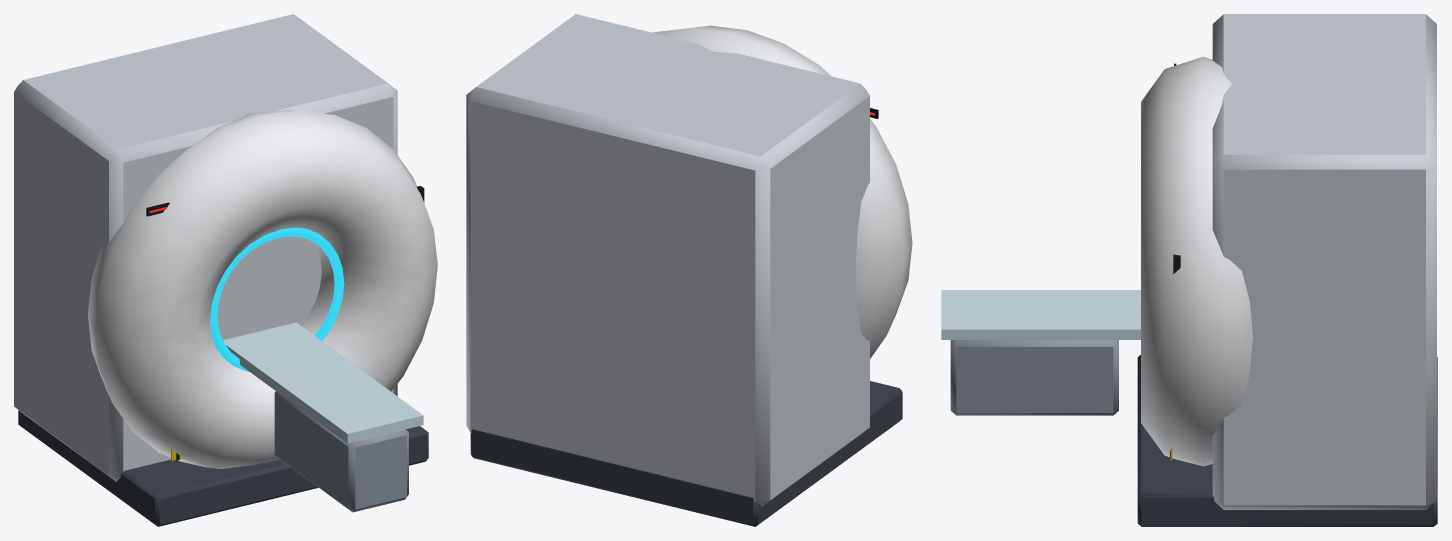
The model's file is medscanner_mri_ring_scanner.glb.
3 renders of one model, left to right at view 1: azimuth 30°, elevation 25°; view 2: azimuth 150°, elevation 25°; view 3: azimuth 270°, elevation 25°, orthographic. The views are drawn at different scales.
Visible parts, largest first — view 1: medscanner_mri_ring_scanner; view 2: medscanner_mri_ring_scanner; view 3: medscanner_mri_ring_scanner.
Boxes of the visible parts, bbox=[...] form: medscanner_mri_ring_scanner: bbox=[14, 14, 437, 526]; medscanner_mri_ring_scanner: bbox=[466, 14, 912, 526]; medscanner_mri_ring_scanner: bbox=[941, 14, 1437, 526].
Size of the model in its own units: 2.2 by 2.25 by 2.65.
